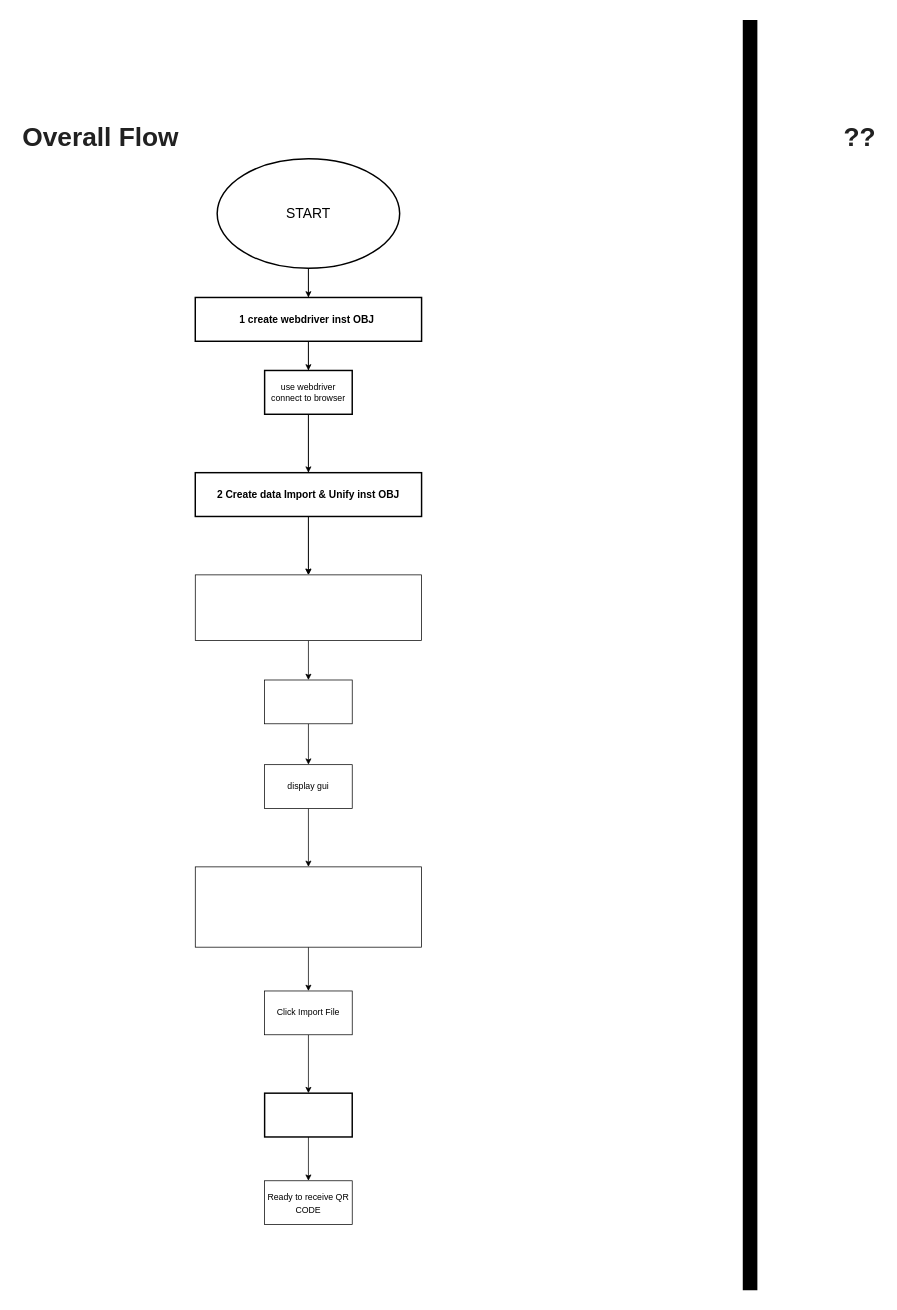
Image size: 897x1310. Some labels were removed from this diagram. Each missing label, with the centre of its shape:
"3 Create inst OBJ from Class GUI TKINTER" belongs at (308,607).
"4 Operation Start" belongs at (308,906).
"build gui" belongs at (308,701).
"Output unified table" belongs at (308,1114).
